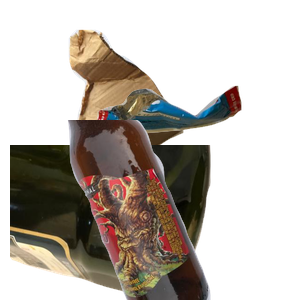cardboard: (66, 27, 242, 197)
glass: (65, 120, 300, 300)
plastic: (10, 145, 213, 300)
trash: (94, 83, 300, 210)
